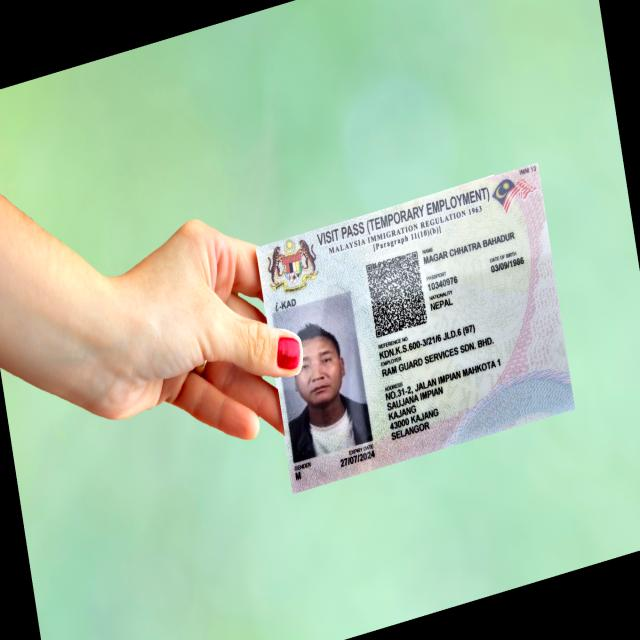ikad-temp: (253, 162, 574, 494)
